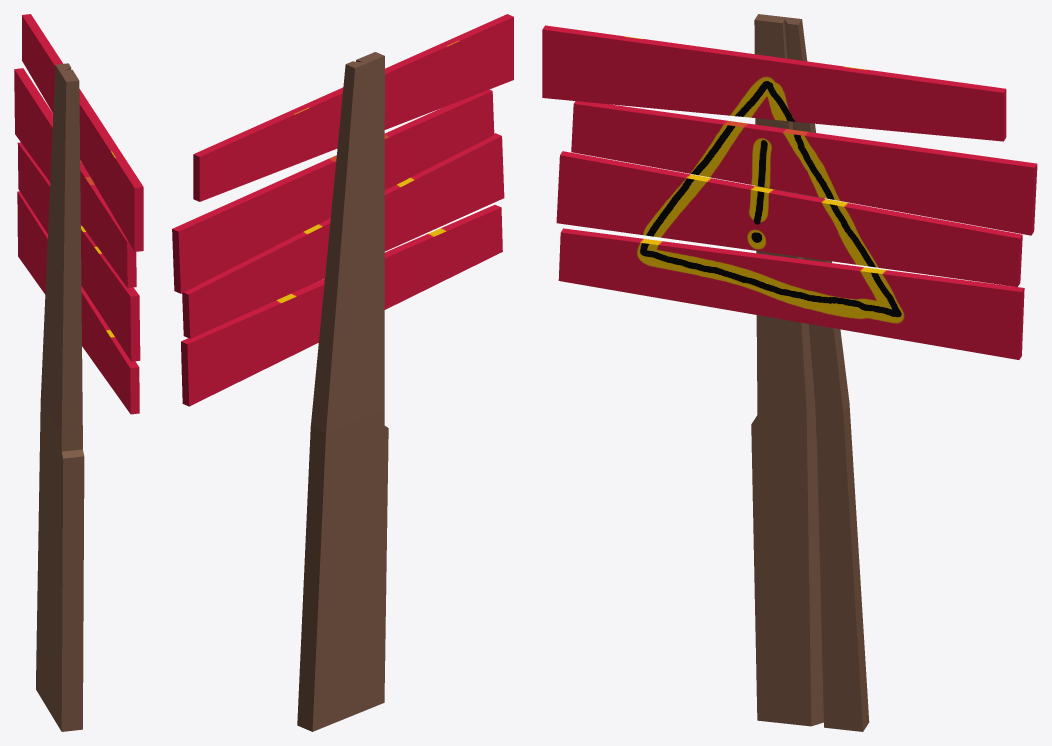
The model's file is znak_bestia2.fbx.
3 renders of one model, left to right at view 1: azimuth 30°, elevation 25°; view 2: azimuth 150°, elevation 25°; view 3: azimuth 270°, elevation 25°, orthographic. The views are drawn at different scales.
Parts seen in each view (by area): view 1: Cube.028; view 2: Cube.028; view 3: Cube.028.
Part boxes in pixels (box(x1,y1,x2,y2)): Cube.028: box(14, 14, 143, 731); Cube.028: box(172, 14, 513, 731); Cube.028: box(542, 14, 1037, 731).
Bounding box in the file's own units: 21.23 × 113 × 72.55.
